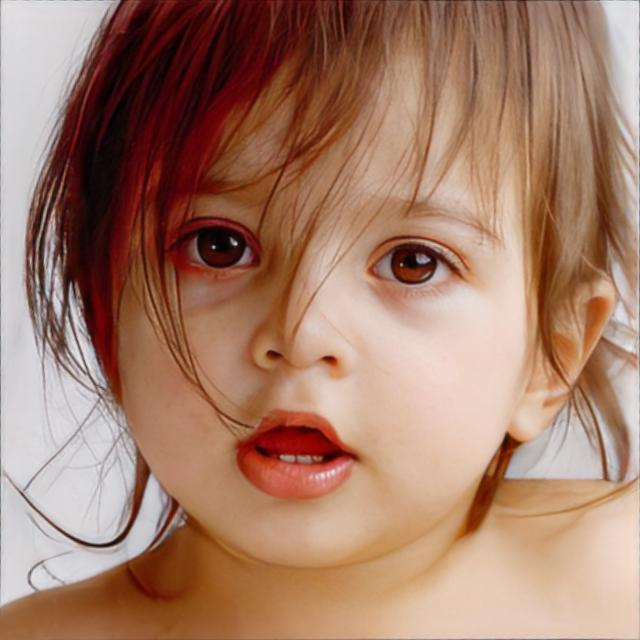surprise: (113, 44, 540, 572)
